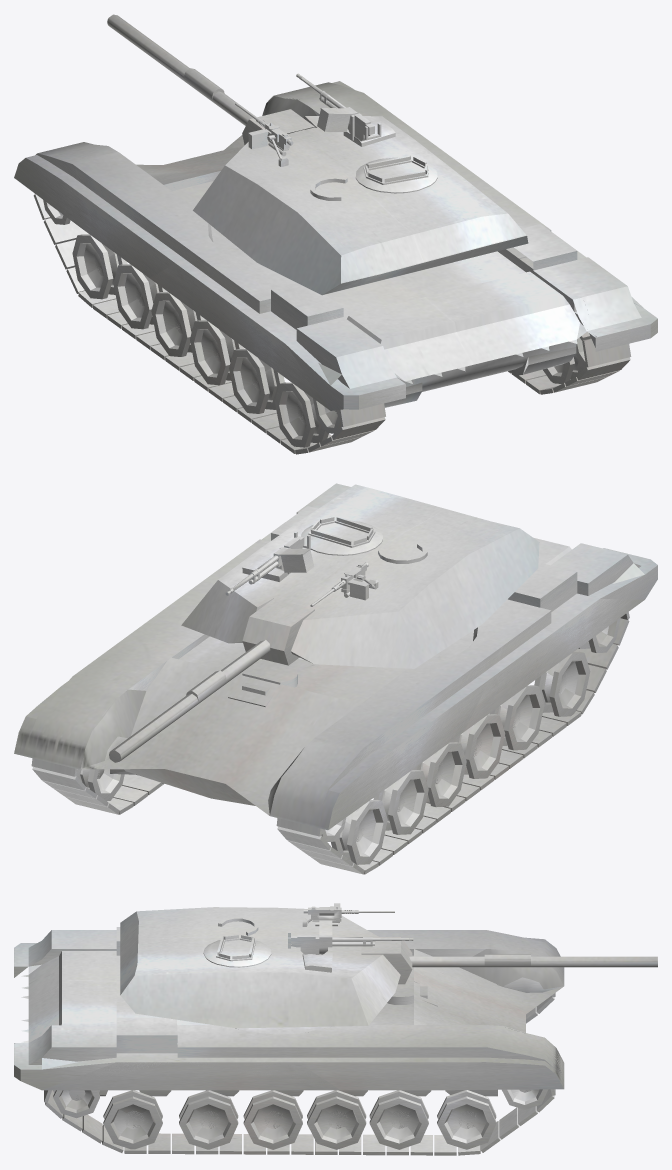
3 views of the same model, one above another, from view 1: azimuth 30°, elevation 25°; view 2: azimuth 150°, elevation 25°; view 3: azimuth 270°, elevation 25° (orthographic). The views are drawn at different scales.
Parts seen in each view (by area): view 1: node_mainBody, node_torret, node_track_left, node_canon, node_track_right, node_guns; view 2: node_mainBody, node_torret, node_track_left, node_canon, node_track_right, node_guns; view 3: node_mainBody, node_torret, node_track_right, node_canon, node_guns.
Part boxes in pixels (bbox=[...]): node_mainBody: bbox=[14, 81, 657, 410]; node_torret: bbox=[193, 96, 528, 295]; node_track_left: bbox=[33, 194, 385, 454]; node_canon: bbox=[107, 14, 314, 144]; node_track_right: bbox=[506, 247, 631, 394]; node_guns: bbox=[235, 73, 381, 166]; node_mainBody: bbox=[14, 483, 657, 830]; node_torret: bbox=[181, 484, 539, 668]; node_track_left: bbox=[276, 612, 629, 874]; node_canon: bbox=[109, 599, 315, 762]; node_track_right: bbox=[31, 758, 164, 814]; node_guns: bbox=[225, 531, 378, 606]; node_mainBody: bbox=[14, 927, 564, 1096]; node_torret: bbox=[120, 907, 400, 1028]; node_track_right: bbox=[44, 1089, 555, 1155]; node_canon: bbox=[361, 937, 657, 984]; node_guns: bbox=[288, 903, 413, 954].
Bounding box in the file's own units: 5.37 × 3.57 × 11.55.
Materials: 1 (1 with a texture image).
